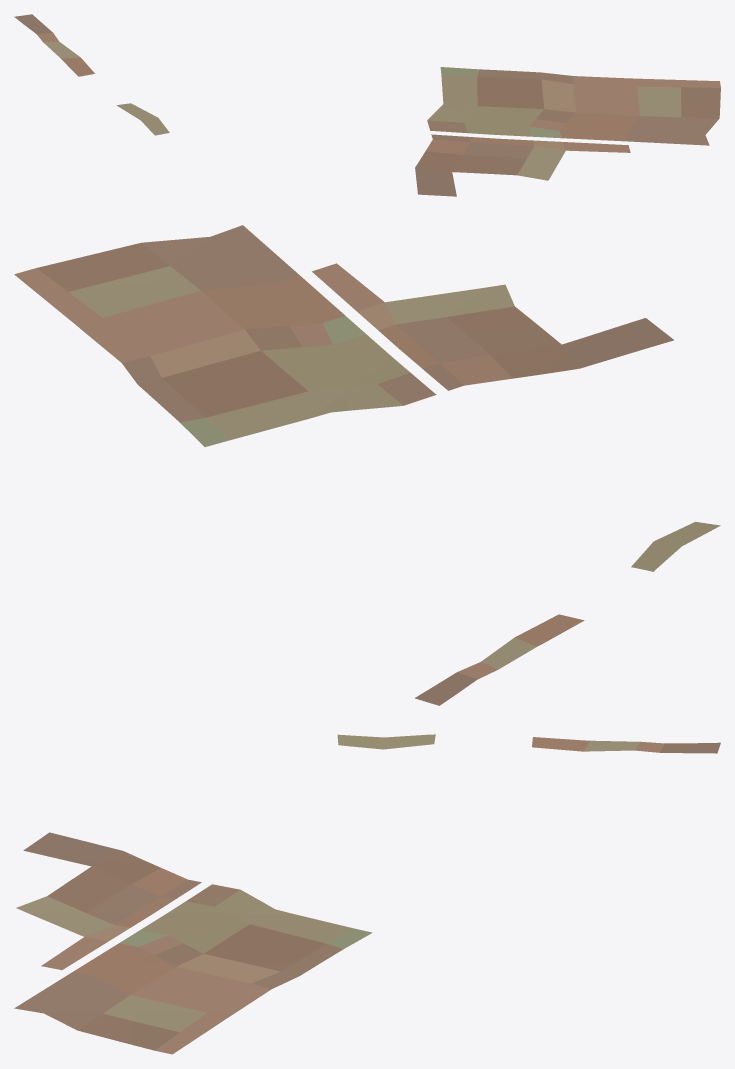
File: farm_23_14_soil.glb
The picture shows the model from 3 angles, top to bottom: view 1: azimuth 30°, elevation 25°; view 2: azimuth 150°, elevation 25°; view 3: azimuth 270°, elevation 25°; orthographic projection. The views are drawn at different scales.
Parts seen in each view (by area): view 1: geometry_0; view 2: geometry_0; view 3: geometry_0.
Boxes of the visible parts, left/top/right/bottom form: geometry_0: left=14, top=14, right=720, bottom=196; geometry_0: left=14, top=225, right=720, bottom=705; geometry_0: left=14, top=734, right=720, bottom=1054.
Bounding box in the file's own units: 500 × 17.8 × 501.
